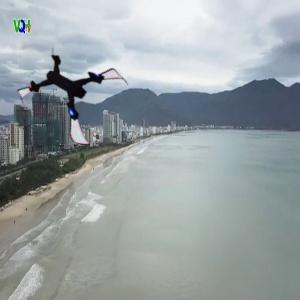drone: (30, 44, 125, 139)
